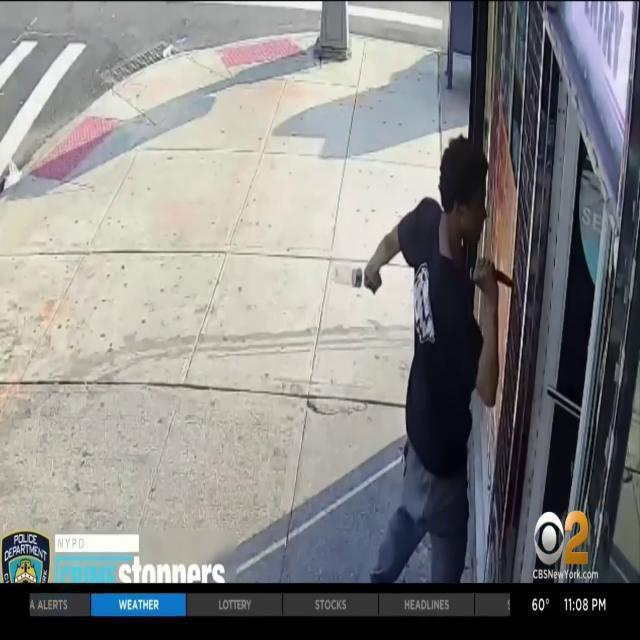Knife: (476, 246, 517, 308)
